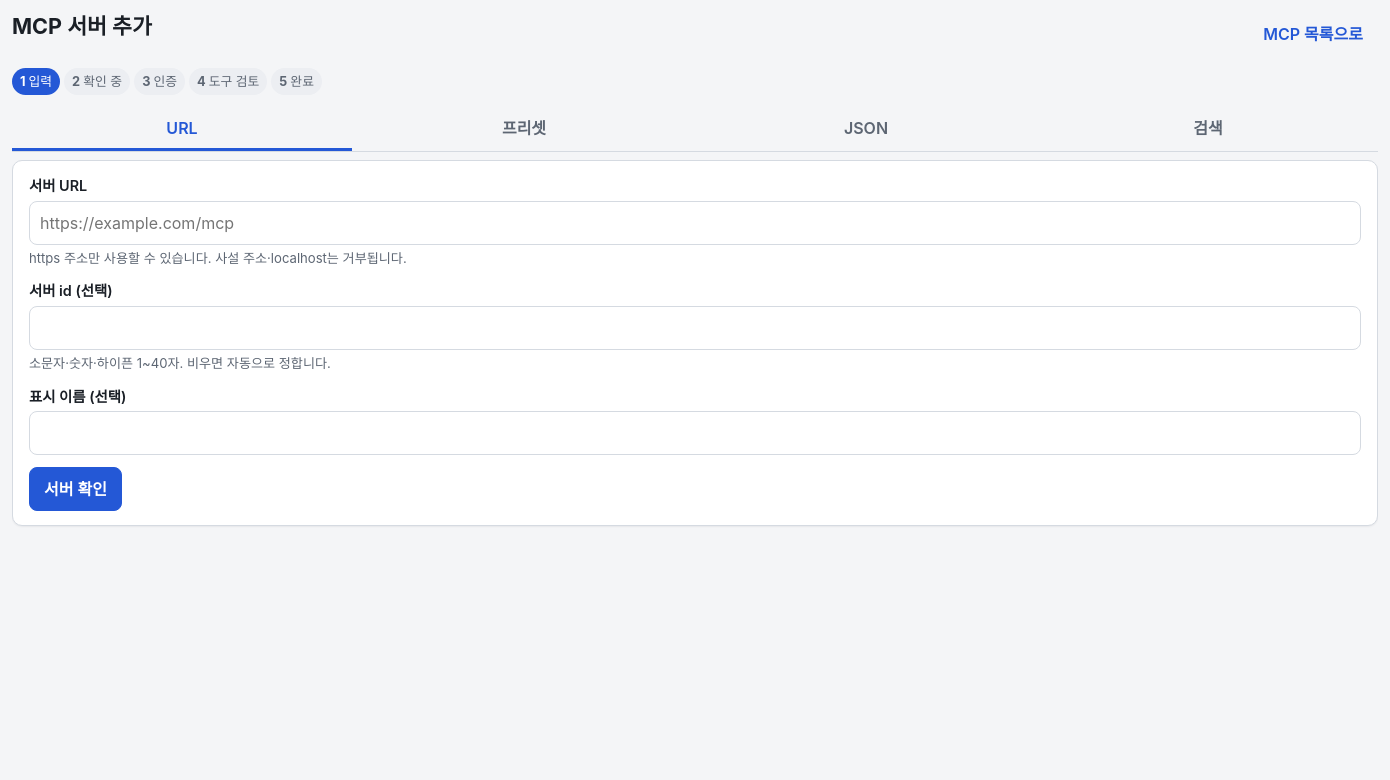
Test case: 추가 마법사 — 실패한 요청 뒤 입력 유지 › keeps the typed URL after the API rejects it
Type "https://internal.example/mcp" into the field labelled "서버 URL" at (695, 223), box [29,201,1361,245]
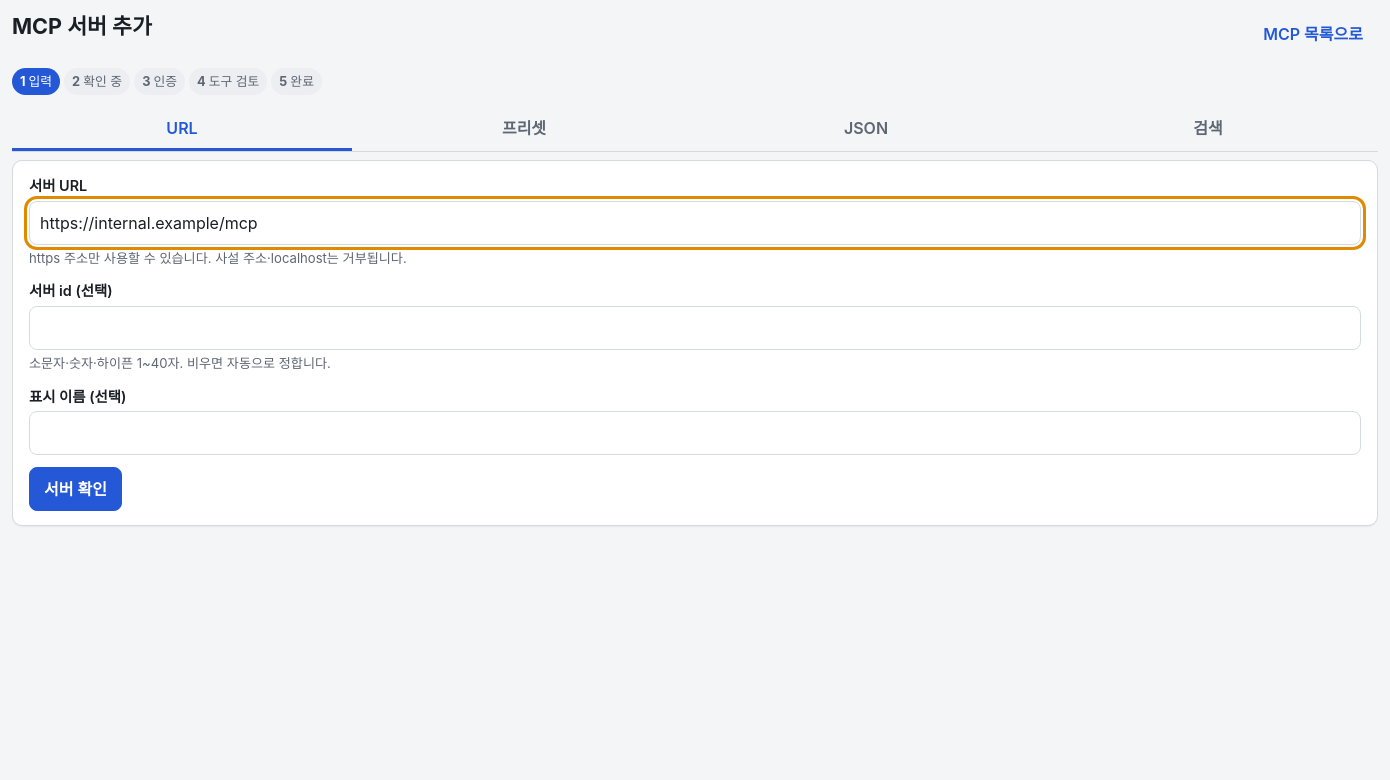
Click the button "서버 확인" at (75, 489), box [29,467,122,511]
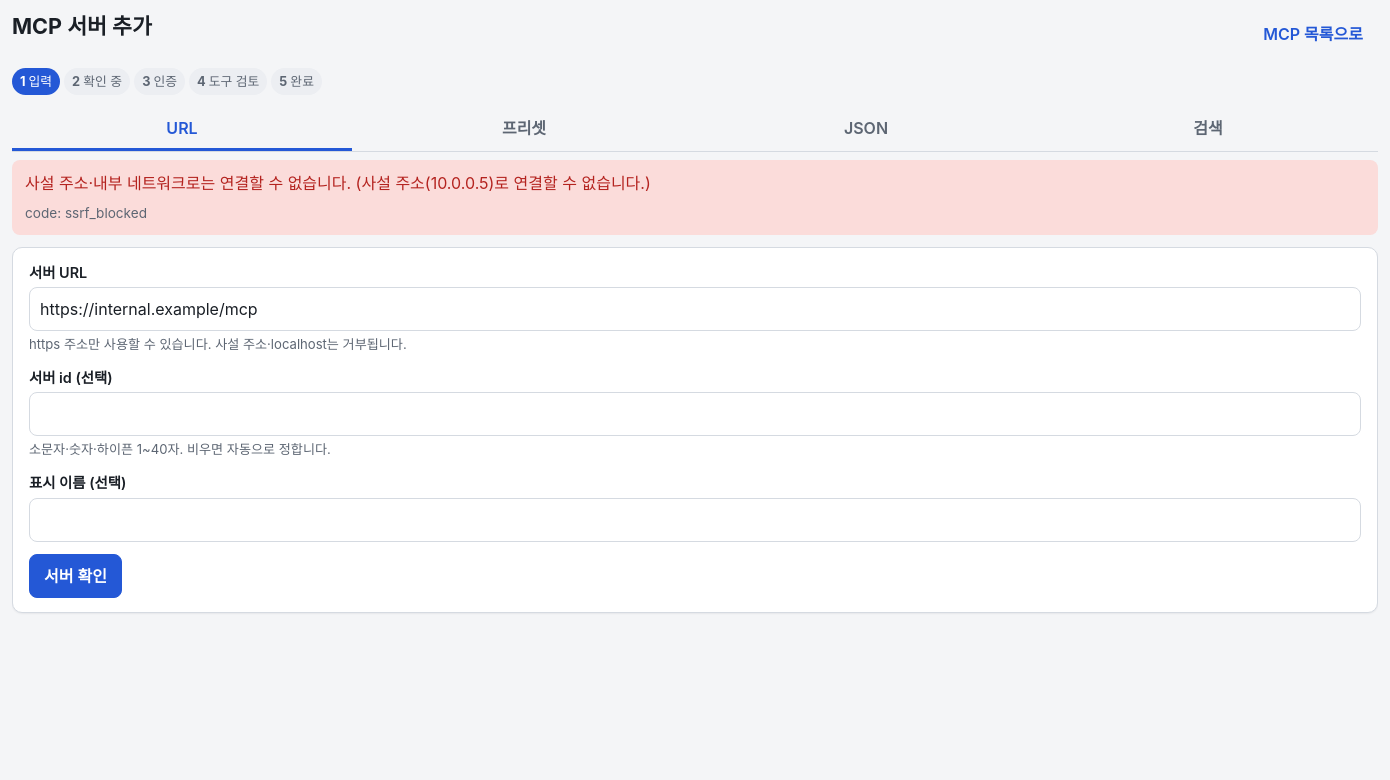
expect the field labelled "서버 URL" holds "https://internal.example/mcp": met, box [29,287,1361,331]
expect the text "사설 주소·내부 네트워크로는 연결할 수 없습니다. (사설 주소(10.0.0.5)로 연결할 수 없습니다.)" is shown: met, box [25,173,651,193]
